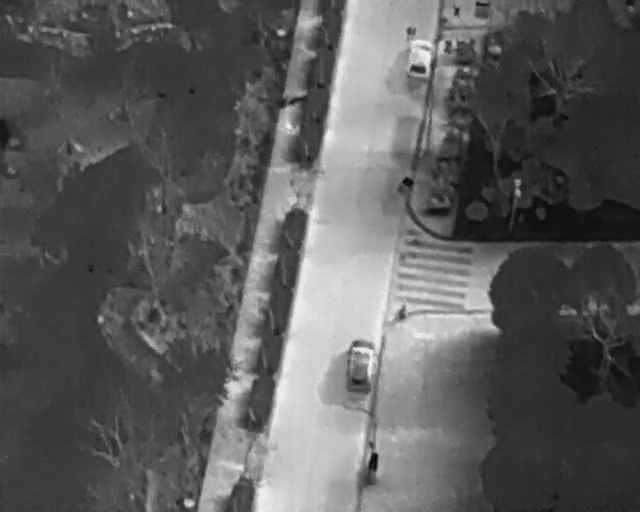Car: (343, 336, 377, 394), (404, 39, 440, 83)
Person: (405, 21, 416, 44)
